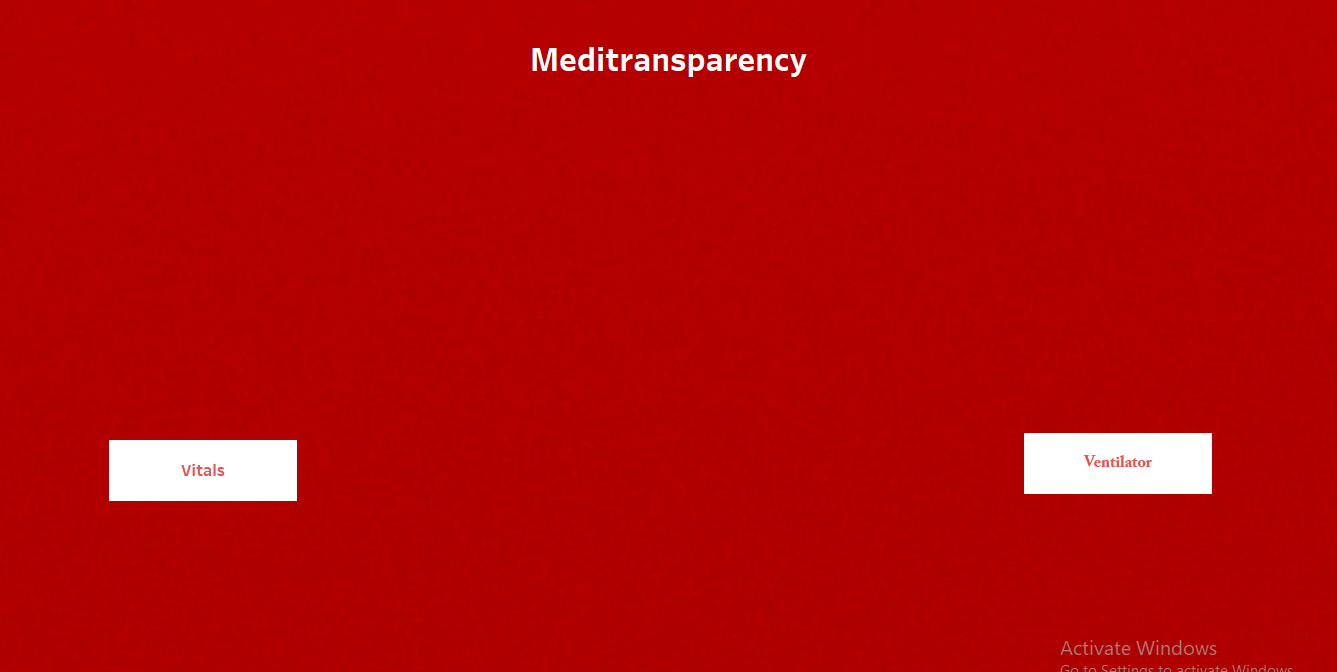

The dashboard page shown, as its layout file describes it:
{"tool":"tableau","page":{"name":"Home","canvas":[1000,1000],"units":"permille","ordinal":1},"visuals":[{"type":"image","param":"Image/james-lee-YpDkIh137ws-unsplash.jpg","box":[5.9,11.5,988.3,977.1]},{"type":"text","box":[9.2,20.3,979,162.2]},{"type":"dashboard-object","box":[759.5,636.8,137.9,87.8]},{"type":"dashboard-object","box":[89.2,647,137.9,87.8]}]}

Visuals, with their boxes on the dashboard's canvas, which has no fixed pixel size, in thousandths of its width and height (x1, y1, x2, y2). These are canvas units, not pixel positions in the 1337x672 screenshot, which may show the page scaled, cropped or inside an application window:
image: locate(6, 12, 994, 989)
text: locate(9, 20, 988, 182)
dashboard-object: locate(760, 637, 897, 725)
dashboard-object: locate(89, 647, 227, 735)
